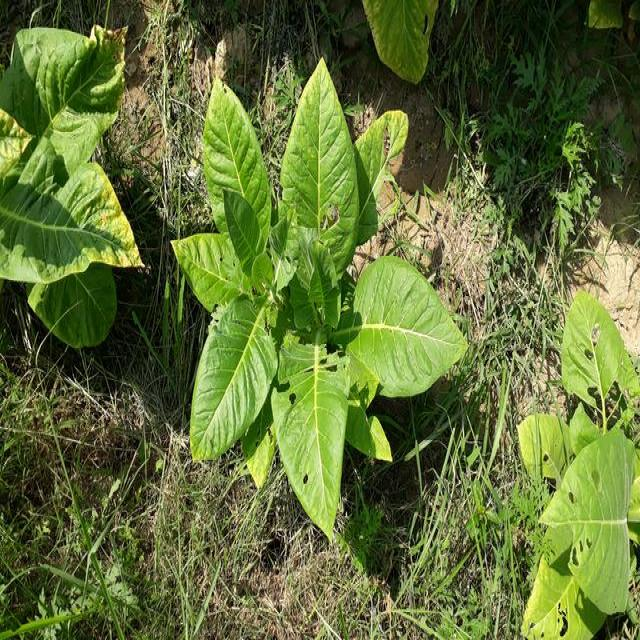crop: (186, 76, 455, 528), (7, 20, 139, 347), (520, 295, 640, 640), (354, 0, 453, 85)
